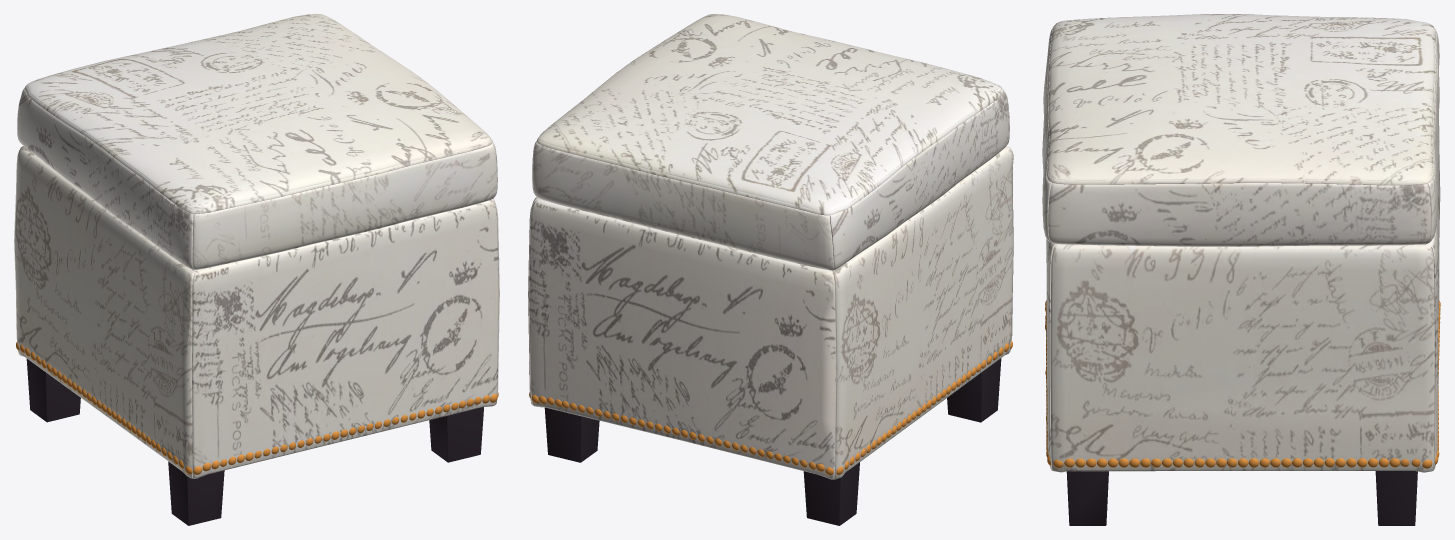
Rendered from B07CQNCJ4R.glb.
The picture shows the model from 3 angles, left to right: view 1: azimuth 30°, elevation 25°; view 2: azimuth 150°, elevation 25°; view 3: azimuth 270°, elevation 25°; orthographic projection. The views are drawn at different scales.
Visible parts, largest first — view 1: B07CQNCJ4R; view 2: B07CQNCJ4R; view 3: B07CQNCJ4R.
Boxes of the visible parts, bbox=[...] form: B07CQNCJ4R: bbox=[14, 14, 499, 525]; B07CQNCJ4R: bbox=[528, 14, 1013, 525]; B07CQNCJ4R: bbox=[1042, 14, 1440, 525].
Size of the model in its own units: 0.4495 by 0.4572 by 0.4491.
1 material, 1 textured.
